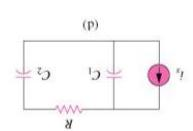Capacitor: (103, 62, 125, 88)
